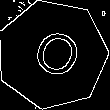O_SW: (22, 23, 83, 86)
